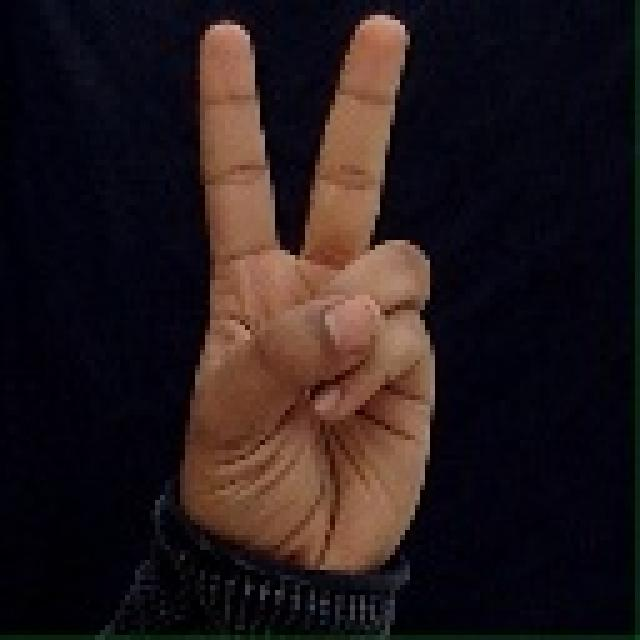Two: (125, 14, 483, 594)
